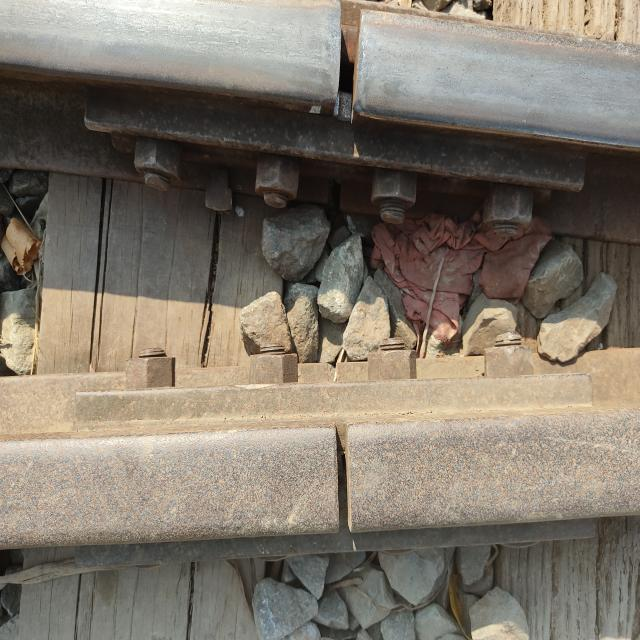Faults: (318, 416, 372, 540), (320, 7, 371, 136)
